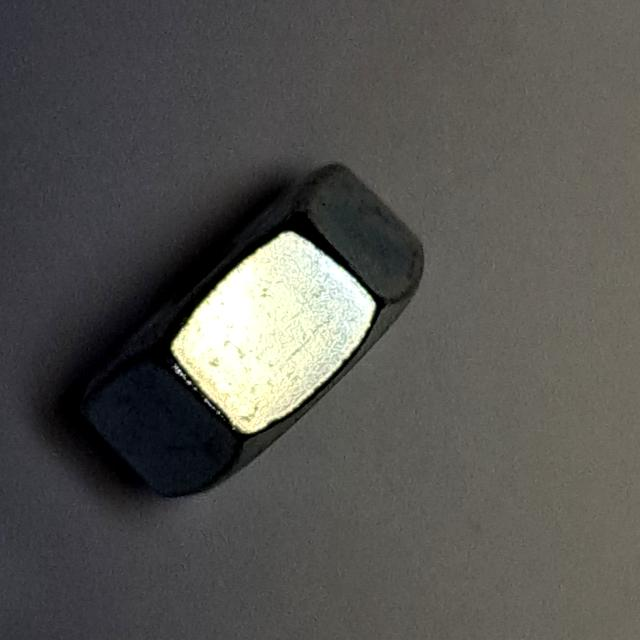Side_Excellent: (49, 141, 441, 517)
